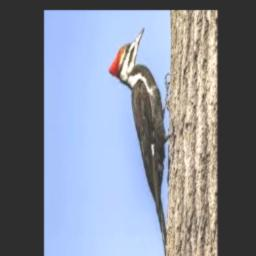Woodpecker: (108, 26, 171, 256)
